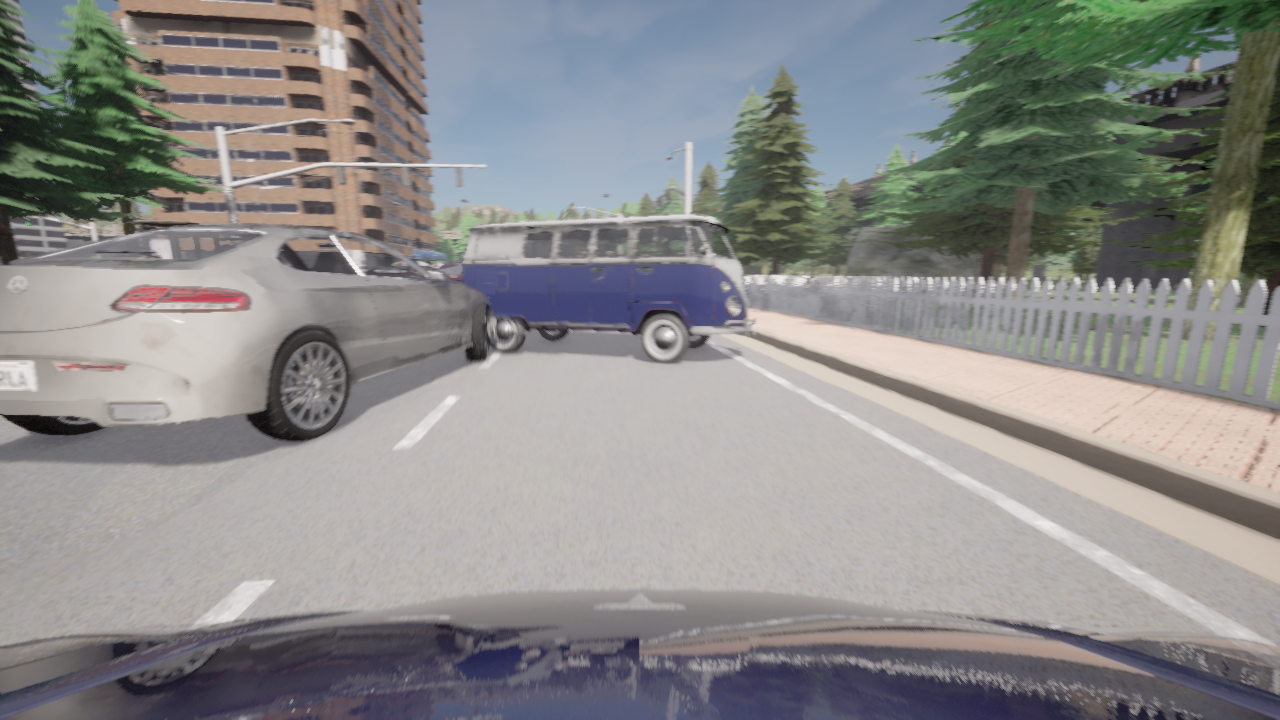cyclist: (0, 588, 1279, 719), (0, 224, 496, 441), (462, 214, 756, 363), (436, 262, 462, 282)
